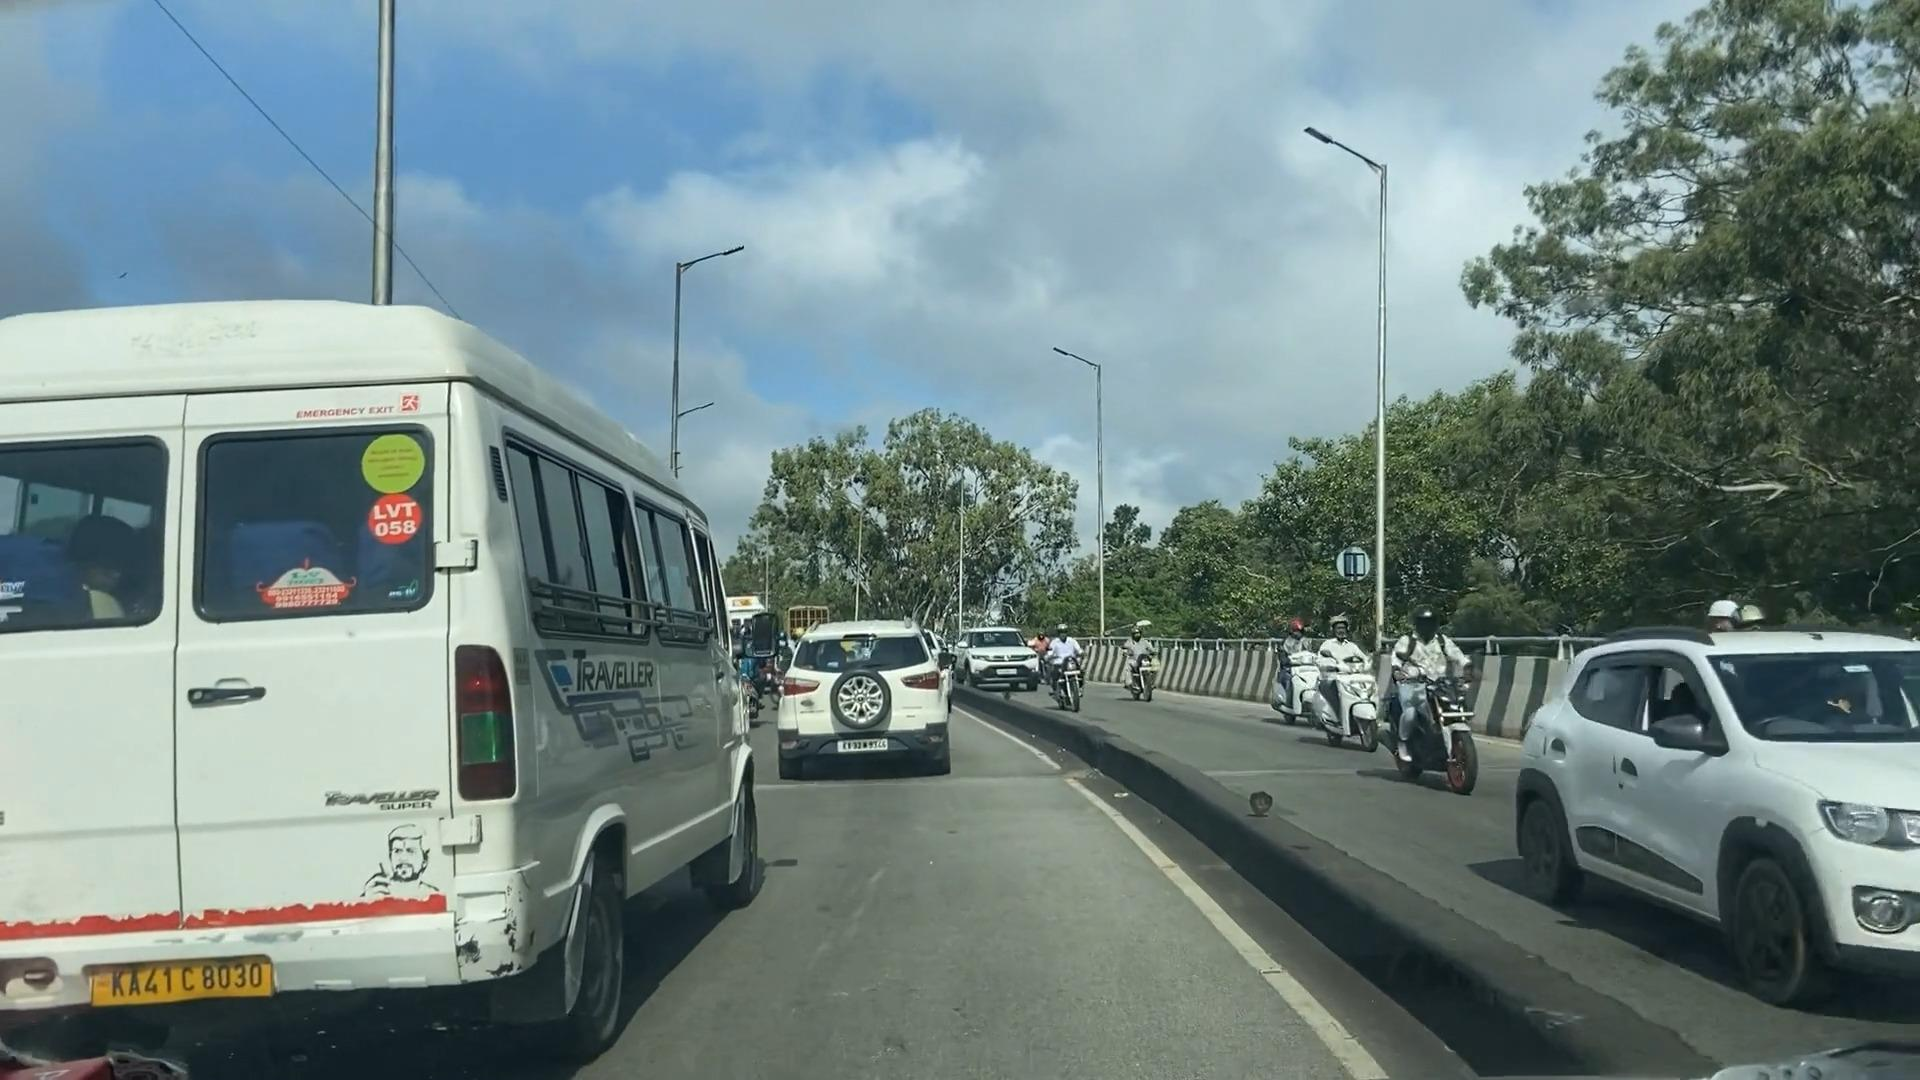HMV: (4, 291, 744, 1047)
LMV: (778, 615, 948, 754)
SpeedBump: (735, 764, 1072, 793)
